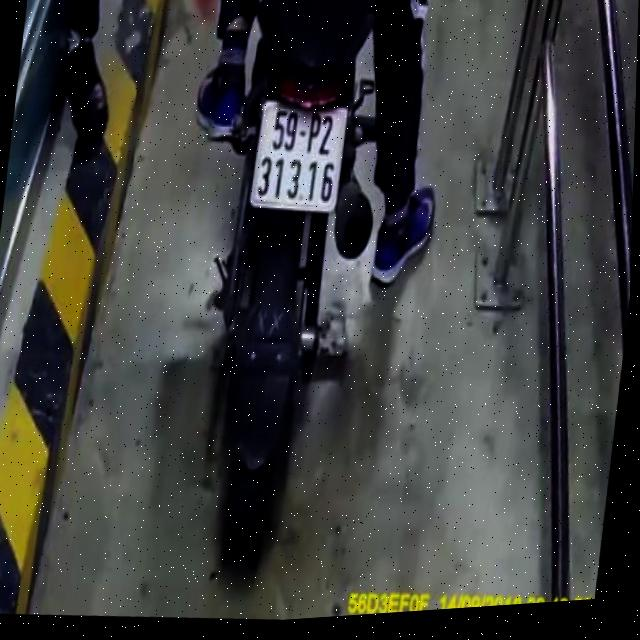motorcycle: (172, 0, 407, 587)
plate: (247, 94, 354, 220)
